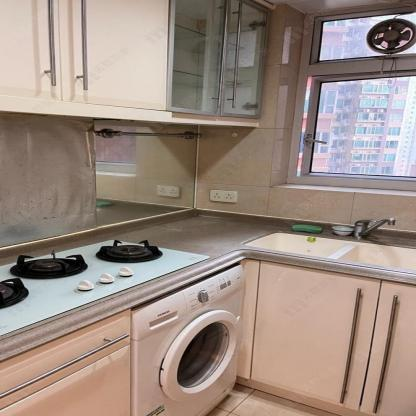Cupboard: (0, 0, 279, 130), (0, 1, 282, 117), (237, 262, 415, 414)
Exhaust Fan: (362, 11, 415, 58)
Exhaust Hood: (0, 94, 176, 120)
Faucet: (350, 212, 394, 240)
Sink: (216, 228, 415, 276), (237, 231, 415, 275)
Stove: (0, 233, 226, 342), (1, 234, 204, 337)
Washing Machine: (131, 262, 240, 416)
